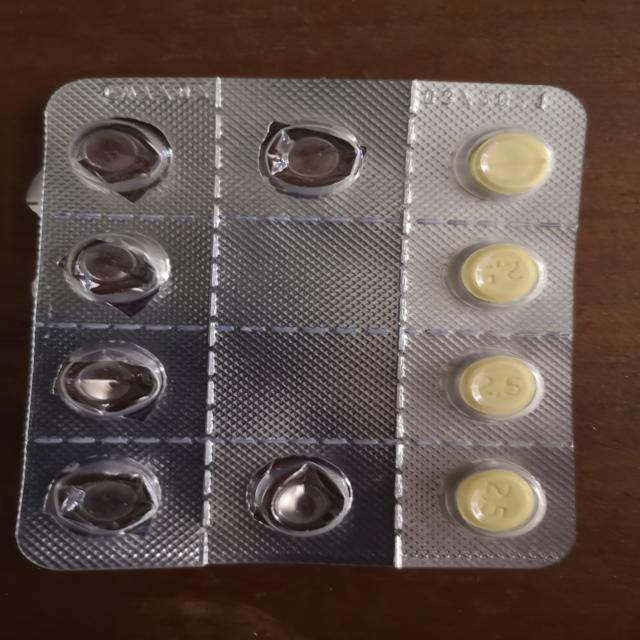Empty: (46, 228, 176, 316), (34, 456, 166, 542), (60, 110, 183, 202), (250, 113, 372, 202), (241, 450, 359, 540), (48, 345, 178, 423)
Pill: (434, 459, 548, 544), (452, 124, 564, 207), (438, 348, 552, 429), (441, 237, 546, 313)
